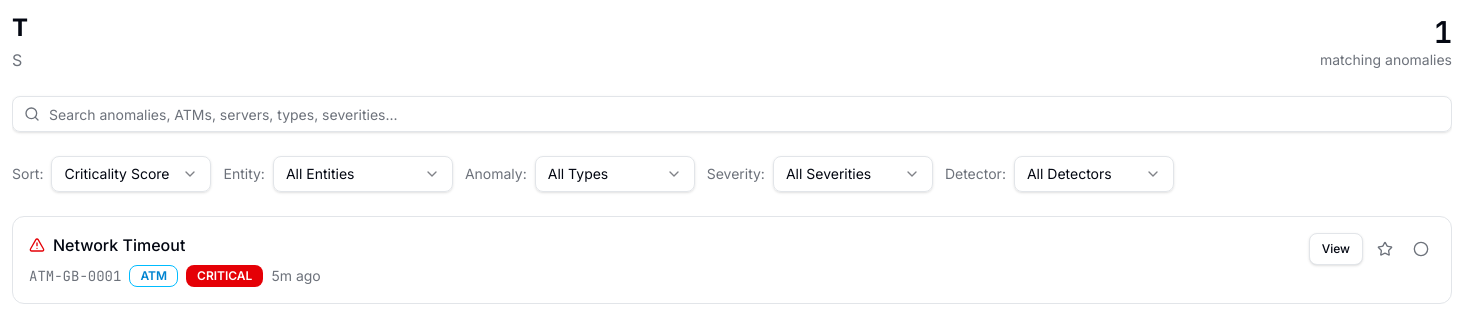
Test case: AnomalyListPage branches › toggles star on click
Expected: the heading "Network Timeout" is shown, 53,233 -> 185,257
Click the button named "Star anomaly" at (1385, 249), box 1371,235 -> 1399,263
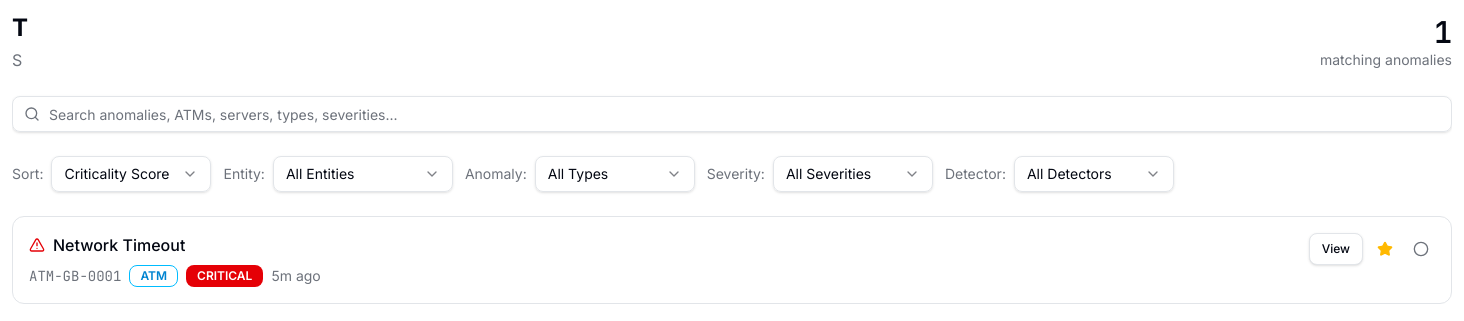
Result: the button named "Unstar anomaly" is shown at 1371,235 -> 1399,263
